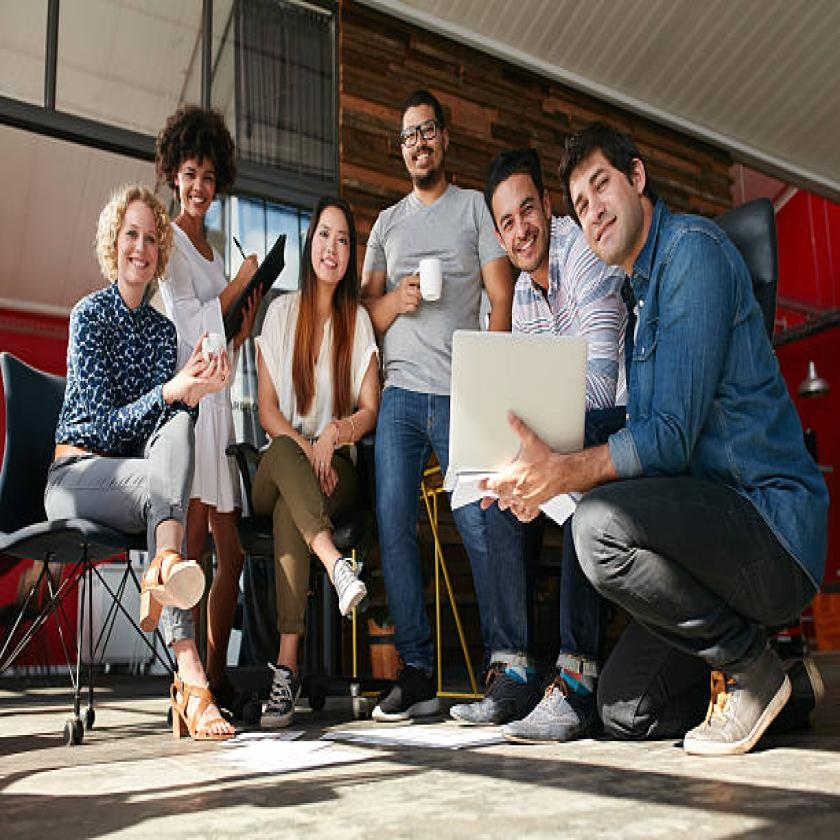Sin_casco: (558, 112, 661, 284), (84, 174, 181, 332), (154, 93, 248, 231), (484, 144, 557, 284), (306, 193, 355, 298), (403, 94, 452, 186)
